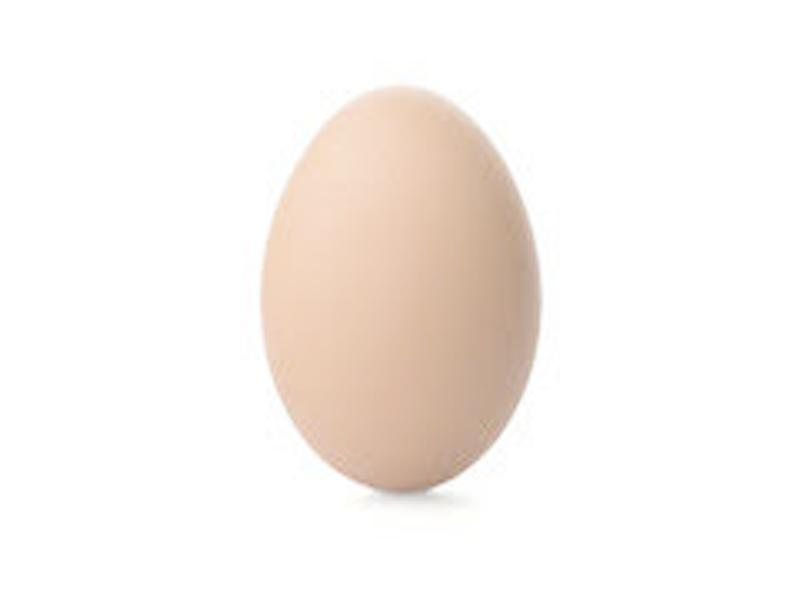Eggs: (263, 90, 540, 495)
